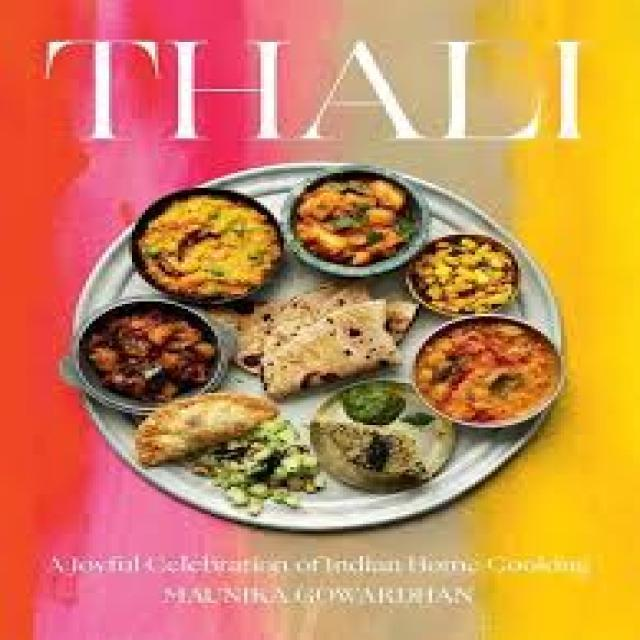papad: (222, 270, 421, 407), (111, 387, 306, 484)
rice: (126, 186, 300, 308)
roti: (232, 277, 423, 400)
veg-fry: (67, 293, 230, 413), (403, 315, 563, 426), (283, 166, 432, 277), (406, 229, 531, 324)
